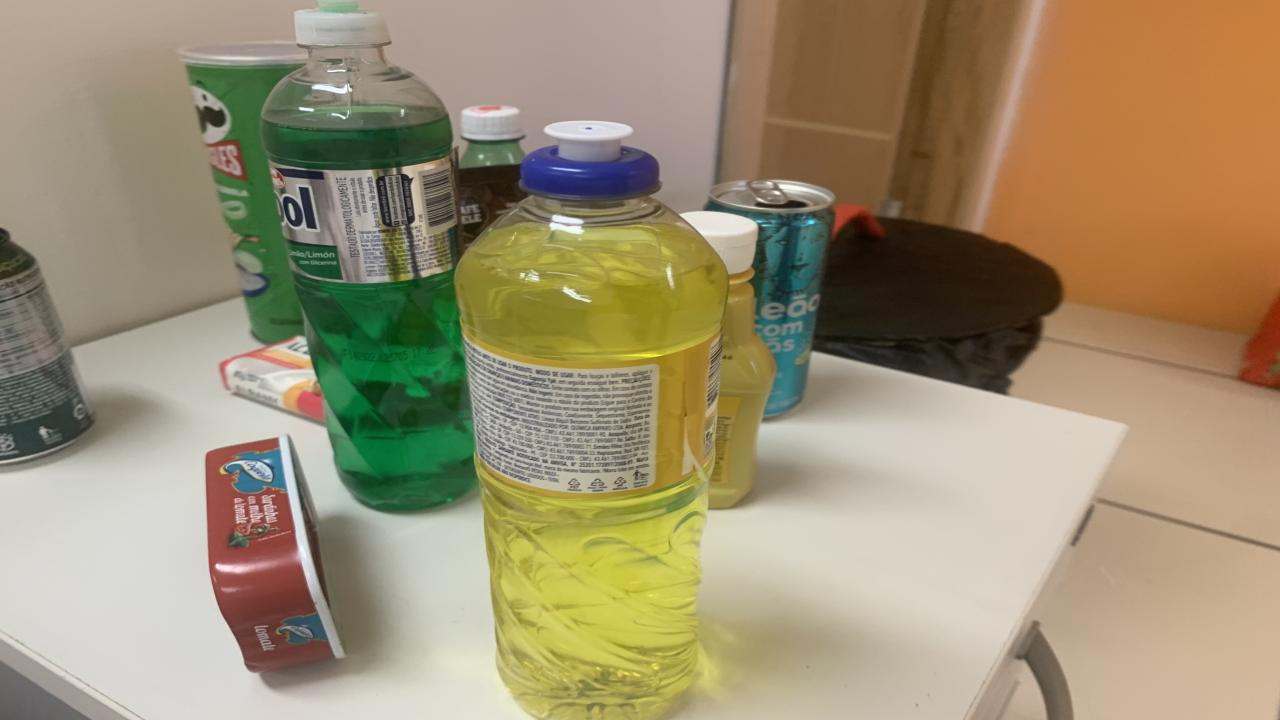Coffee-Pantry_Items: (458, 163, 528, 248)
Detergent-Cleanup_Items: (455, 122, 728, 718), (260, 0, 475, 510)
Guarana-Drinks: (460, 105, 525, 169)
Guarana_Can-Drinks: (0, 229, 92, 463)
Mustard-Pantry_Items: (682, 212, 775, 508)
Pringles-Snacks: (180, 41, 308, 343)
Soap-Cleanup_Items: (220, 336, 325, 424)
Tea-Drinks: (705, 180, 835, 416)
Tuna_Can-Pantry_Items: (205, 437, 342, 673)
